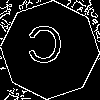C: (25, 25, 64, 73)
